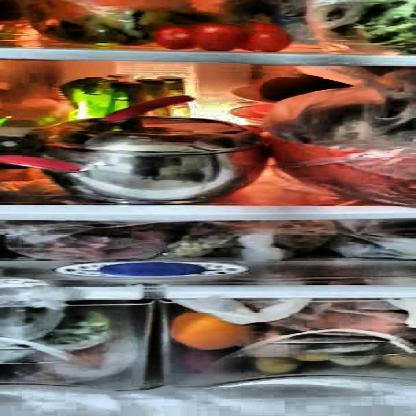lemon: (252, 356, 305, 372)
lettuce: (335, 0, 415, 52)
mineral_water: (77, 74, 185, 114)
orange: (172, 310, 262, 348)
tomato: (160, 20, 292, 51)
